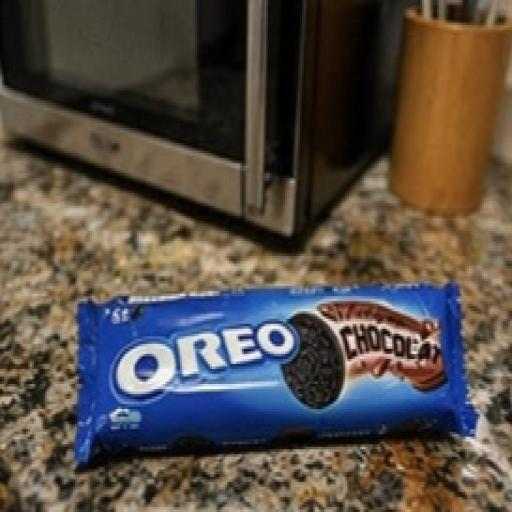oreo: (35, 230, 507, 492)
